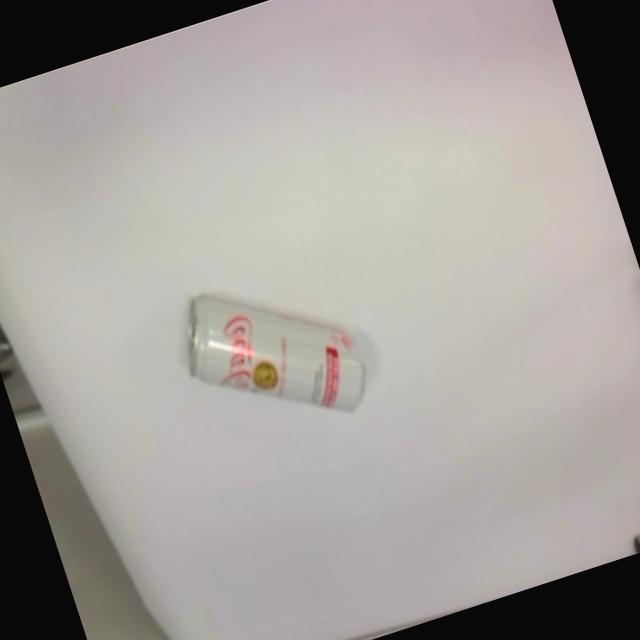debris: (167, 252, 379, 458)
